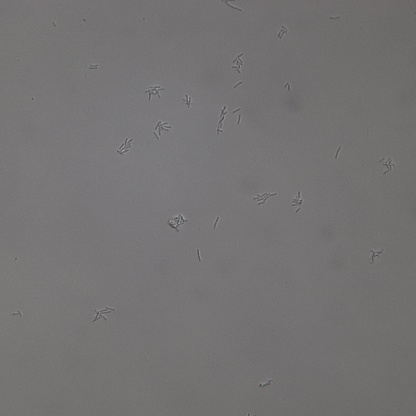R(colony): (214, 106, 228, 135), (92, 305, 114, 323), (378, 156, 397, 174), (153, 120, 171, 139), (116, 137, 133, 156), (145, 85, 165, 101), (231, 53, 246, 74), (292, 189, 305, 213), (253, 192, 276, 205), (170, 215, 187, 232), (369, 248, 384, 264), (276, 26, 288, 38), (258, 379, 273, 388), (183, 96, 193, 107), (12, 310, 22, 318)
